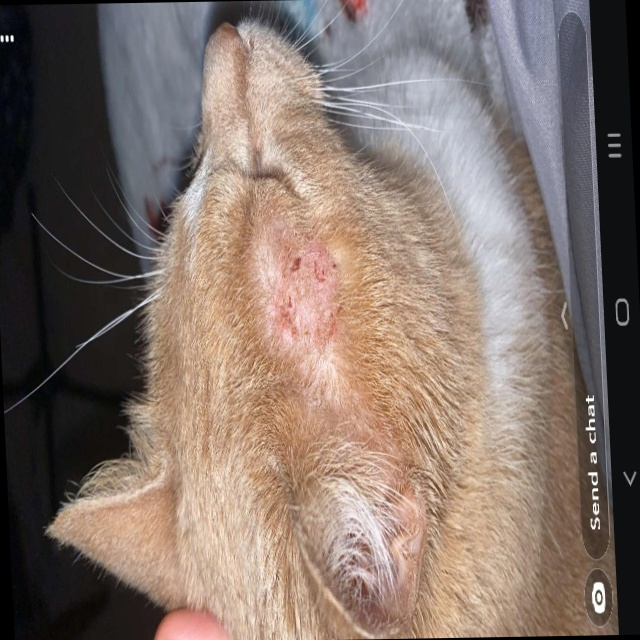ringworm: (268, 242, 343, 399)
